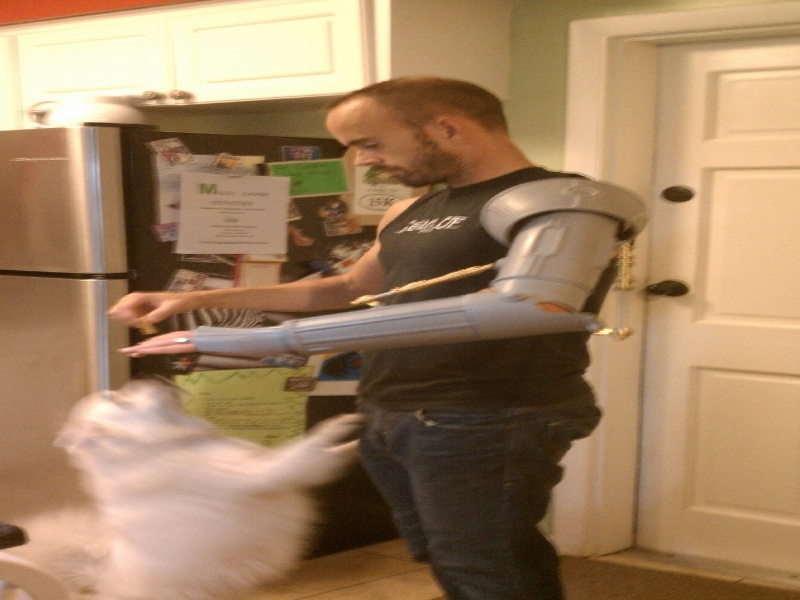refrigerator: (3, 125, 243, 535)
